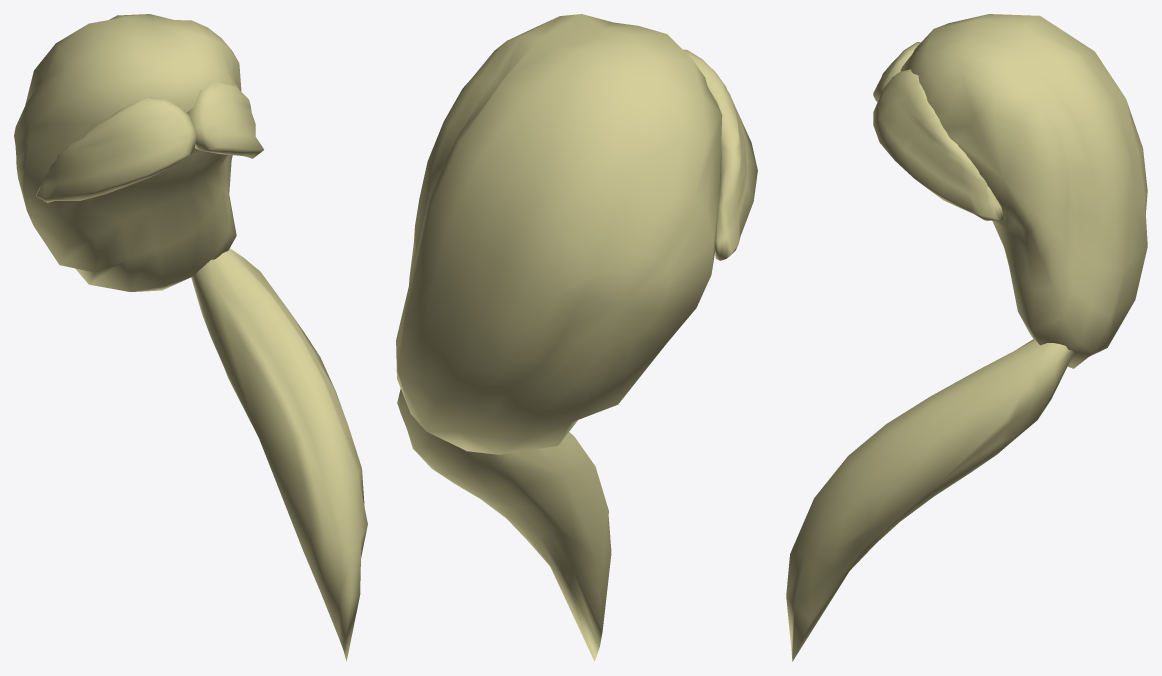
File: M_Cheveux disco femme 3.fbx
The picture shows the model from 3 angles, left to right: view 1: azimuth 30°, elevation 25°; view 2: azimuth 150°, elevation 25°; view 3: azimuth 270°, elevation 25°; orthographic projection. The views are drawn at different scales.
Parts seen in each view (by area): view 1: polySurface329; view 2: polySurface329; view 3: polySurface329.
Boxes of the visible parts, box(x1,y1,x2,y2) form: polySurface329: box(14, 14, 367, 661); polySurface329: box(396, 14, 757, 661); polySurface329: box(786, 14, 1147, 661).
Size of the model in its own units: 0.2596 by 0.3143 by 0.5614.
